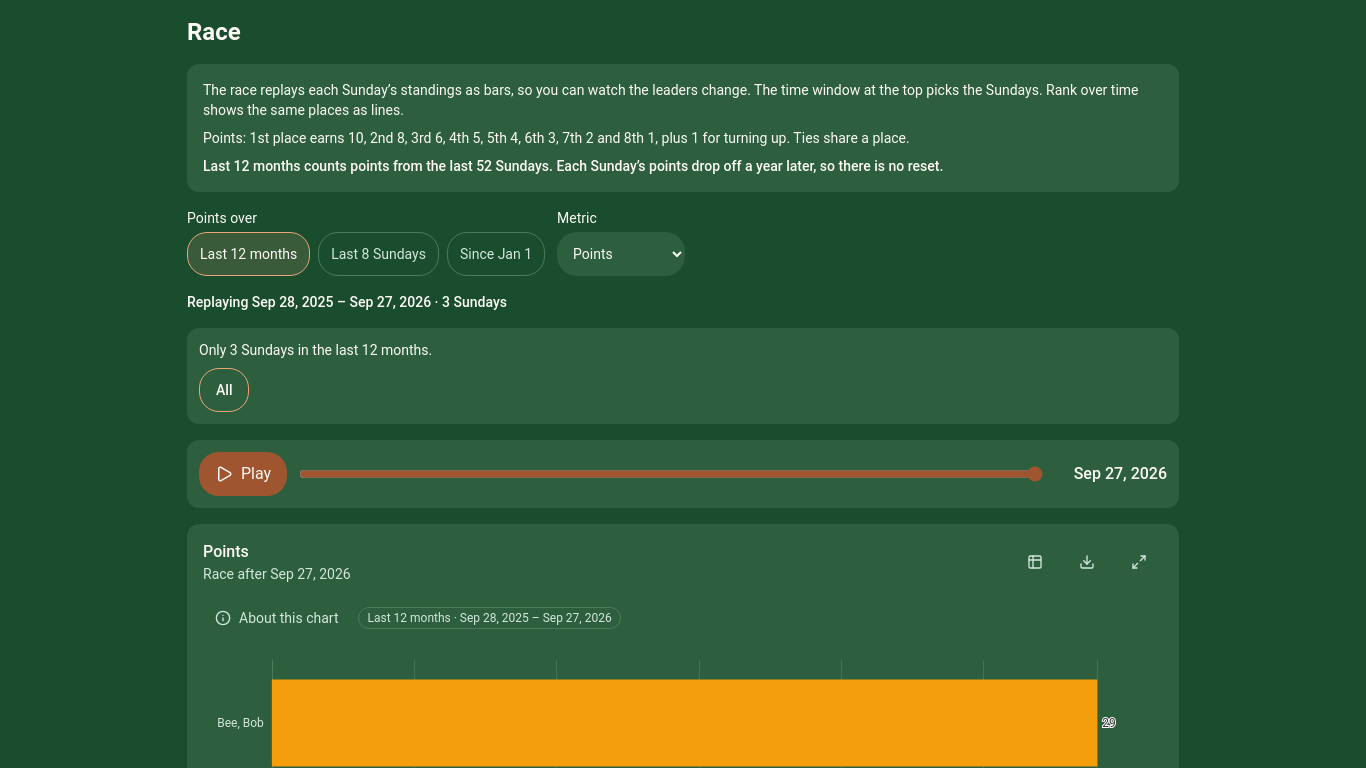
Test case: RacePage › opens on the latest frame and scrubs to earlier ones
The image size is (1366, 768).
Expected: the text "Sep 27, 2026" is shown, [1074,464,1167,483]
Step 1. Set the slider named "Race position" to "0" → point(307, 474), box [299,452,1043,496]
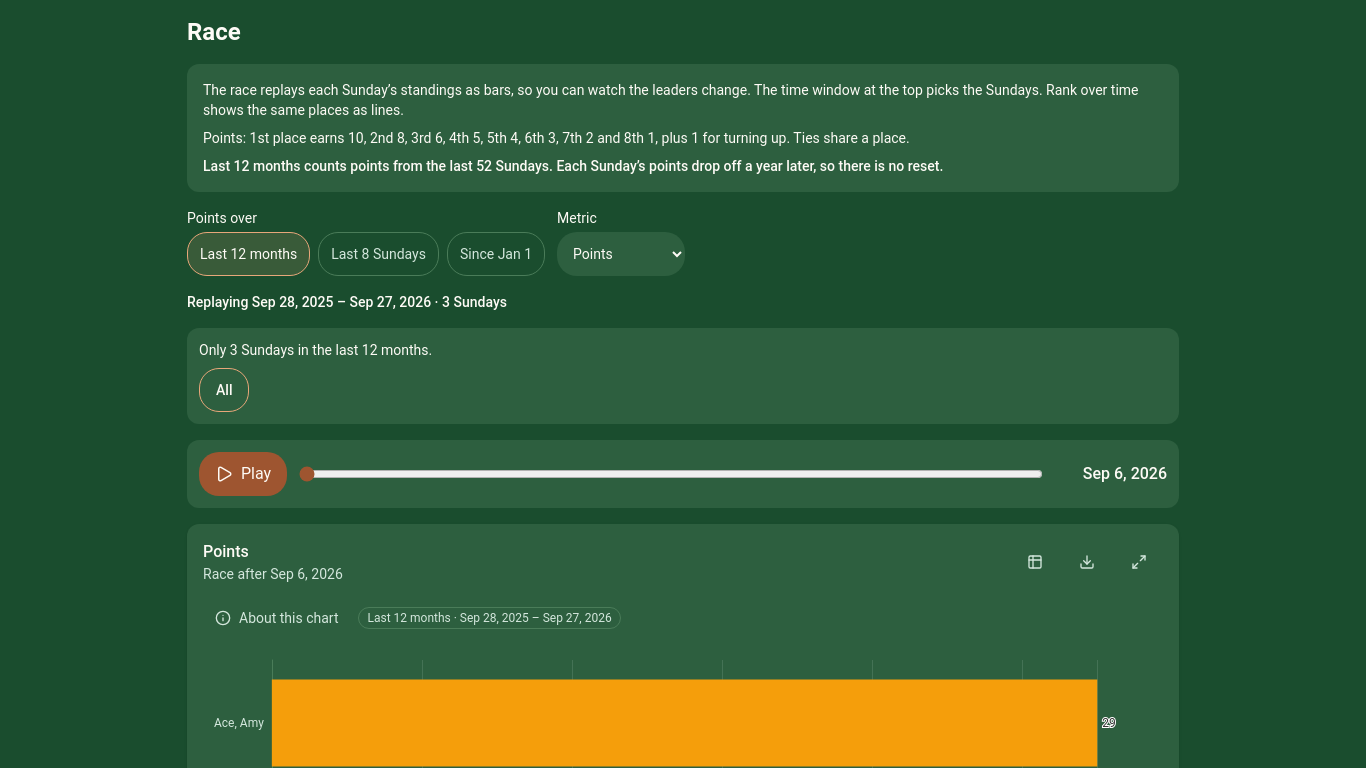
Result: the text "Sep 6, 2026" is shown at [1083,464,1167,483]
